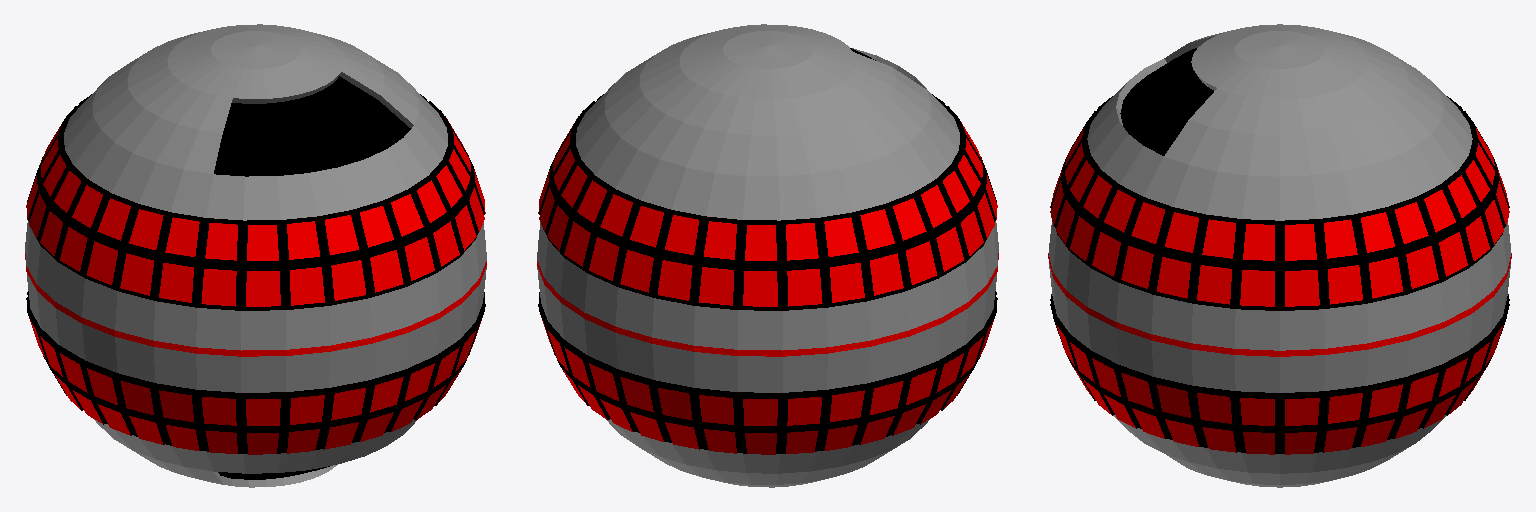
File: Horde.obj
3 views of the same model, side by side, from view 1: azimuth 30°, elevation 25°; view 2: azimuth 150°, elevation 25°; view 3: azimuth 270°, elevation 25° (orthographic).
Parts seen in each view (by area): view 1: MineHorde; view 2: MineHorde; view 3: MineHorde.
Part boxes in pixels (bbox=[...]): MineHorde: bbox=[25, 24, 486, 487]; MineHorde: bbox=[537, 24, 998, 487]; MineHorde: bbox=[1048, 24, 1511, 487].
Bounding box in the file's own units: 134 × 134 × 134.